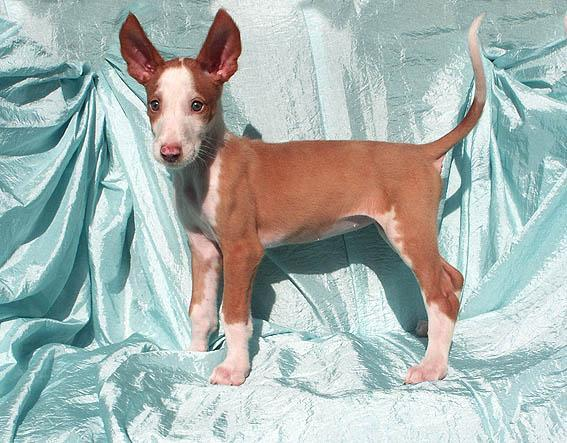Ibizan_hound: (117, 6, 487, 387)
